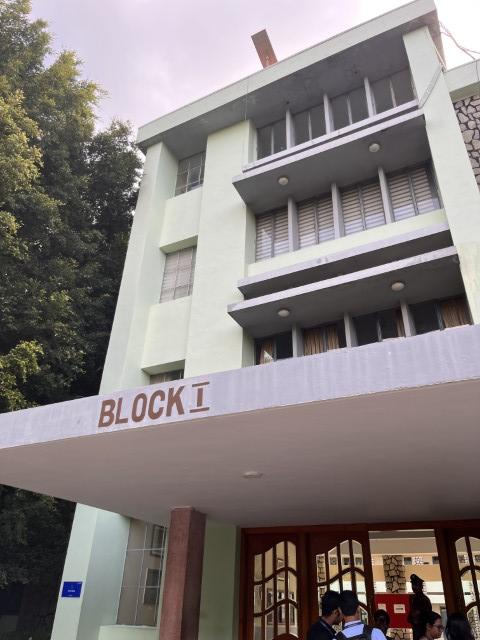Block 1: (80, 1, 473, 623)
